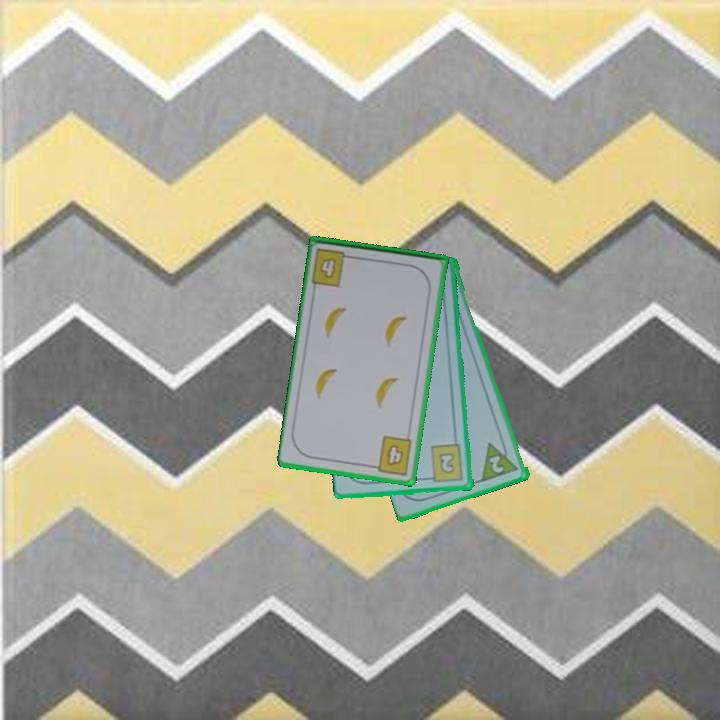2b: (424, 441, 466, 485)
2p: (486, 452, 507, 476)
4b: (368, 432, 415, 478), (309, 244, 357, 288)
